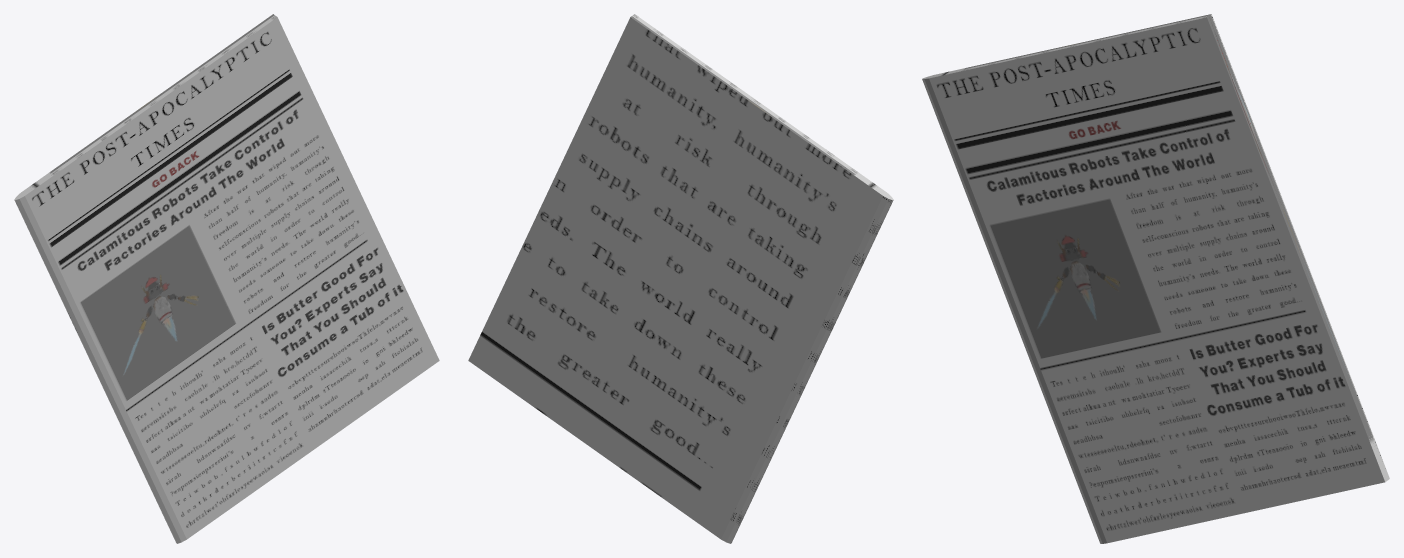
File: Newspaper.fbx
The picture shows the model from 3 angles, left to right: view 1: azimuth 30°, elevation 25°; view 2: azimuth 150°, elevation 25°; view 3: azimuth 330°, elevation 25°; orthographic projection. The views are drawn at different scales.
Visible parts, largest first — view 1: Cube.010; view 2: Cube.010; view 3: Cube.010.
Part boxes in pixels (x1,y1,x2,y2): Cube.010: (14, 14, 439, 543); Cube.010: (468, 14, 893, 543); Cube.010: (922, 14, 1389, 543).
Bounding box in the file's own units: 502 × 572 × 8.82.
